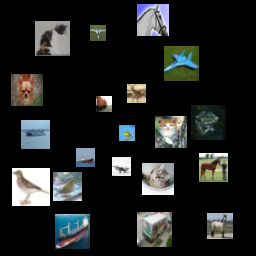airplane: (164, 46, 199, 81), (112, 157, 131, 176), (90, 25, 106, 41)
bird: (12, 168, 50, 206), (53, 172, 82, 201), (119, 125, 135, 141)
cat: (35, 21, 70, 56), (142, 163, 174, 195), (155, 116, 187, 148)
deer: (127, 84, 146, 103)
dog: (11, 74, 43, 106)
frog: (191, 105, 226, 140)
ship: (55, 214, 90, 249), (21, 120, 50, 149), (76, 148, 95, 167)
